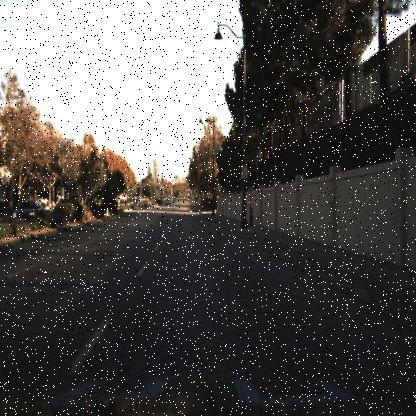car: (13, 200, 45, 225), (162, 195, 173, 214)
